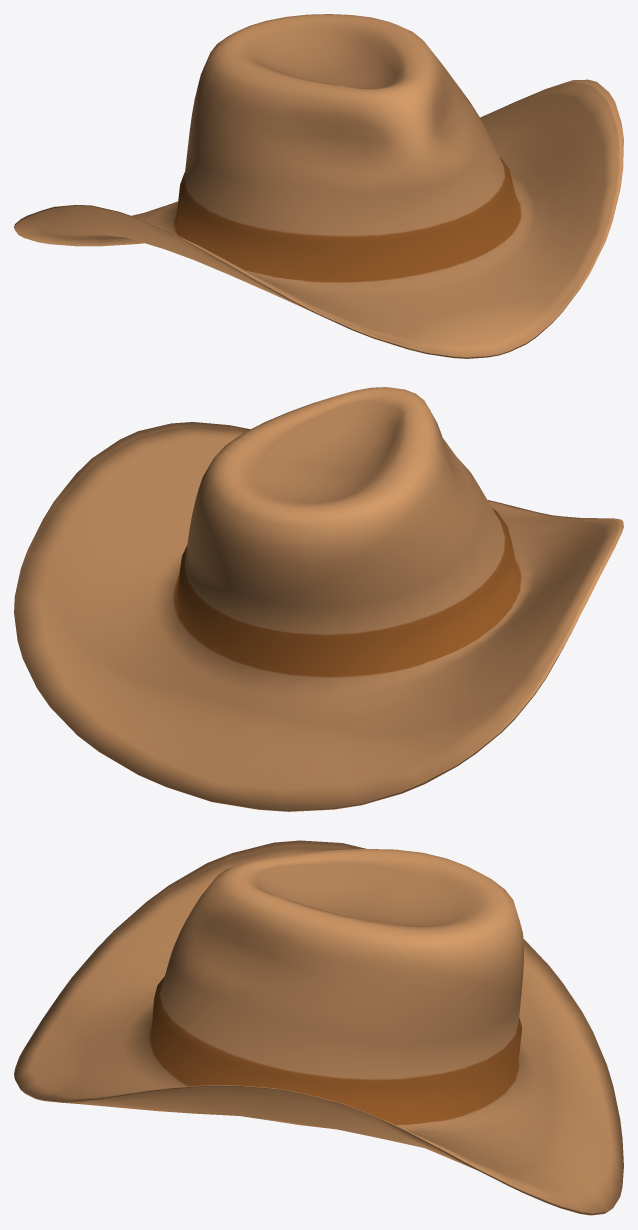
The model's file is Cowboyhat.fbx.
3 renders of one model, top to bottom at view 1: azimuth 30°, elevation 25°; view 2: azimuth 150°, elevation 25°; view 3: azimuth 270°, elevation 25°, orthographic. The views are drawn at different scales.
Visible parts, largest first — view 1: Cowboyhat; view 2: Cowboyhat; view 3: Cowboyhat.
Part boxes in pixels (bbox=[...]): Cowboyhat: bbox=[14, 14, 623, 358]; Cowboyhat: bbox=[14, 387, 623, 811]; Cowboyhat: bbox=[14, 840, 623, 1215].
Size of the model in its own units: 55.85 by 28.39 by 53.69.
